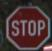Stop sign: (0, 0, 51, 50)
